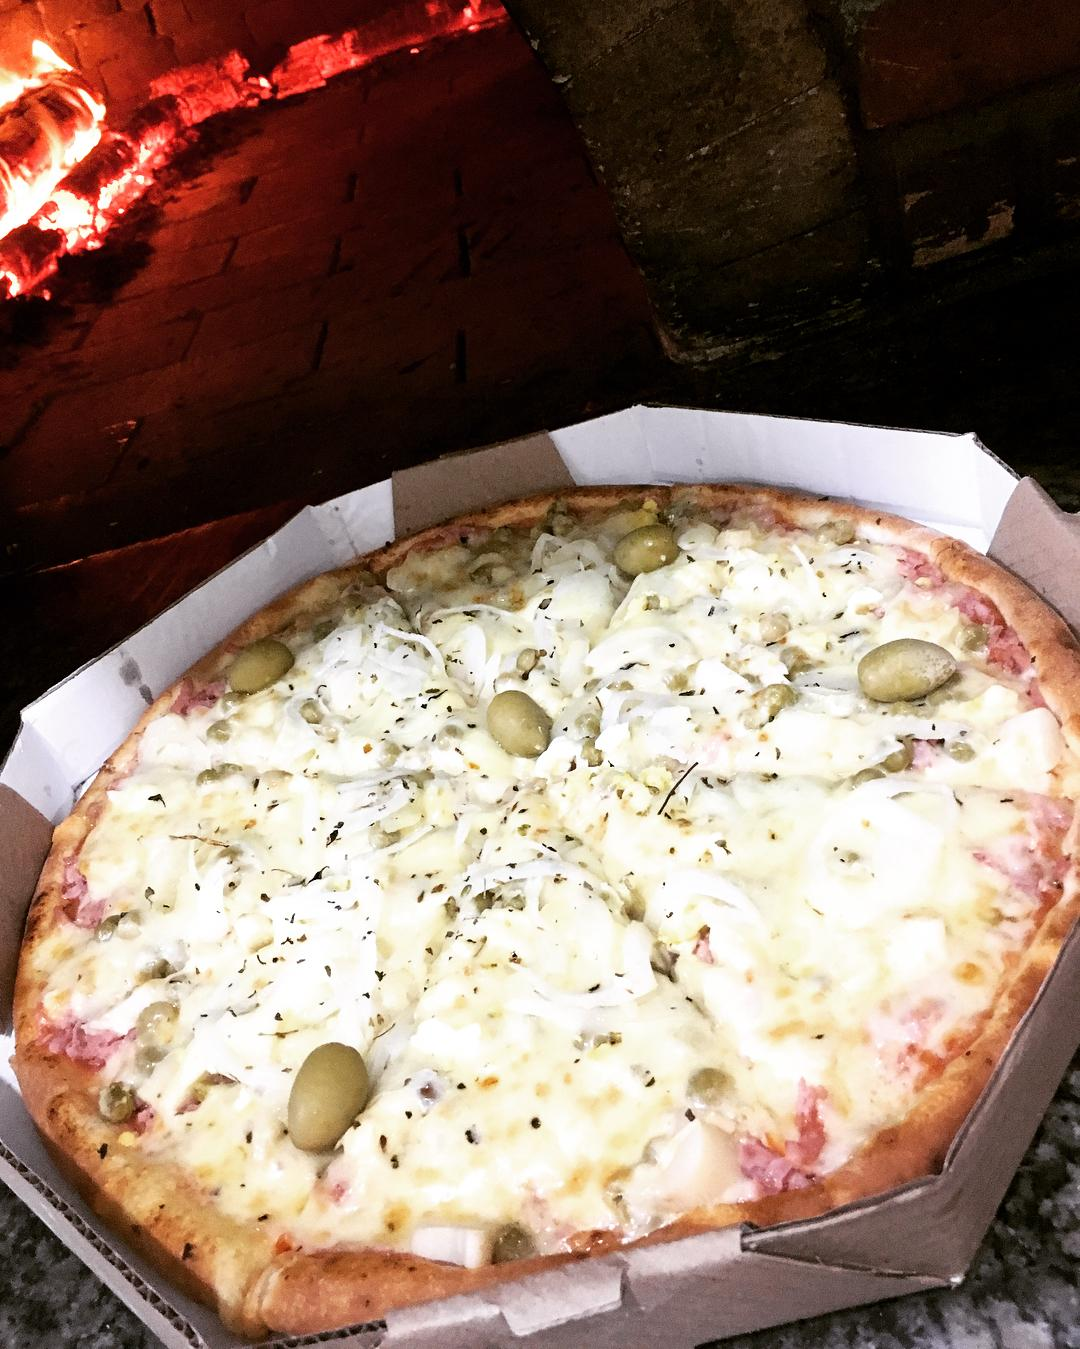Cheese: (387, 773, 648, 1131), (641, 788, 918, 1035), (165, 729, 361, 1017), (587, 587, 809, 781)
Olives: (271, 1042, 374, 1170), (851, 645, 960, 700), (475, 684, 559, 753), (222, 638, 292, 693), (607, 518, 676, 569)
Pizza: (21, 471, 1071, 1319)
